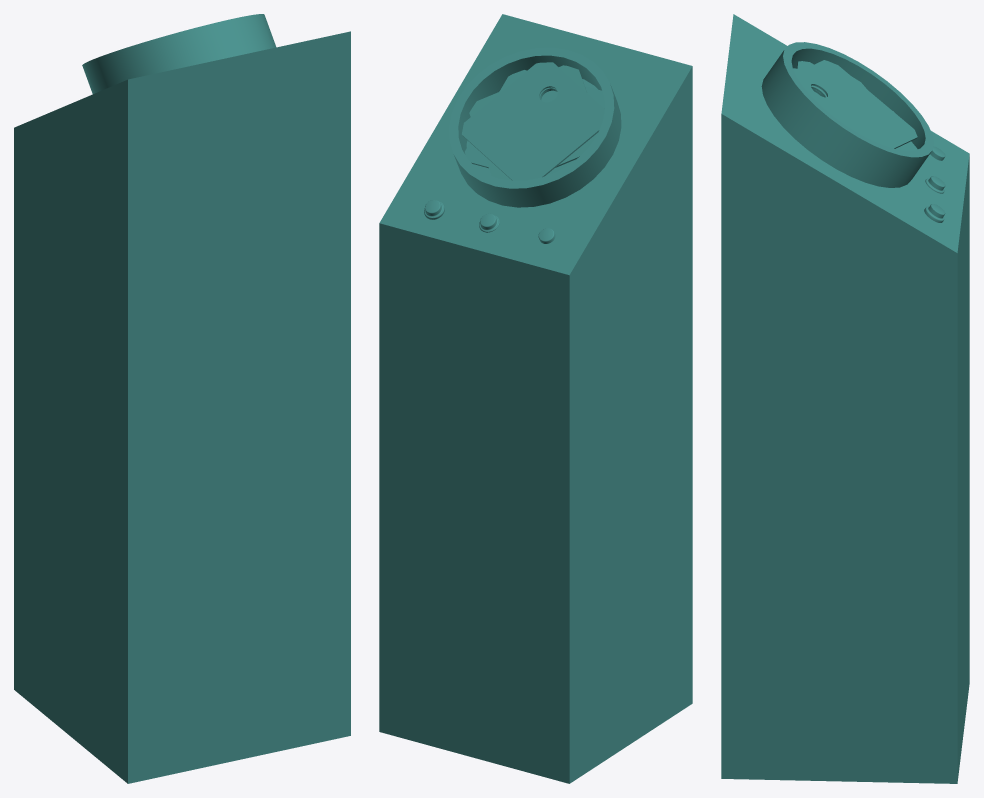
File: PuzzleMicroscope.fbx
The picture shows the model from 3 angles, left to right: view 1: azimuth 30°, elevation 25°; view 2: azimuth 150°, elevation 25°; view 3: azimuth 270°, elevation 25°; orthographic projection. The views are drawn at different scales.
Parts seen in each view (by area): view 1: Cube.006, Cylinder.020; view 2: Cube.006, Cube.009, Cylinder.020, Cube.008, Cube.007; view 3: Cube.006, Cylinder.020, Cube.009.
Boxes of the visible parts, <box> form: Cube.006: <box>14,31,350,783</box>; Cylinder.020: <box>82,14,276,93</box>; Cube.006: <box>379,14,692,783</box>; Cube.009: <box>462,62,604,180</box>; Cylinder.020: <box>449,47,621,207</box>; Cube.008: <box>469,65,598,180</box>; Cube.007: <box>464,70,604,175</box>; Cube.006: <box>721,14,969,783</box>; Cylinder.020: <box>761,42,934,187</box>; Cube.009: <box>795,60,917,148</box>.
Bounding box in the file's own units: 61.03 × 183 × 61.03.
